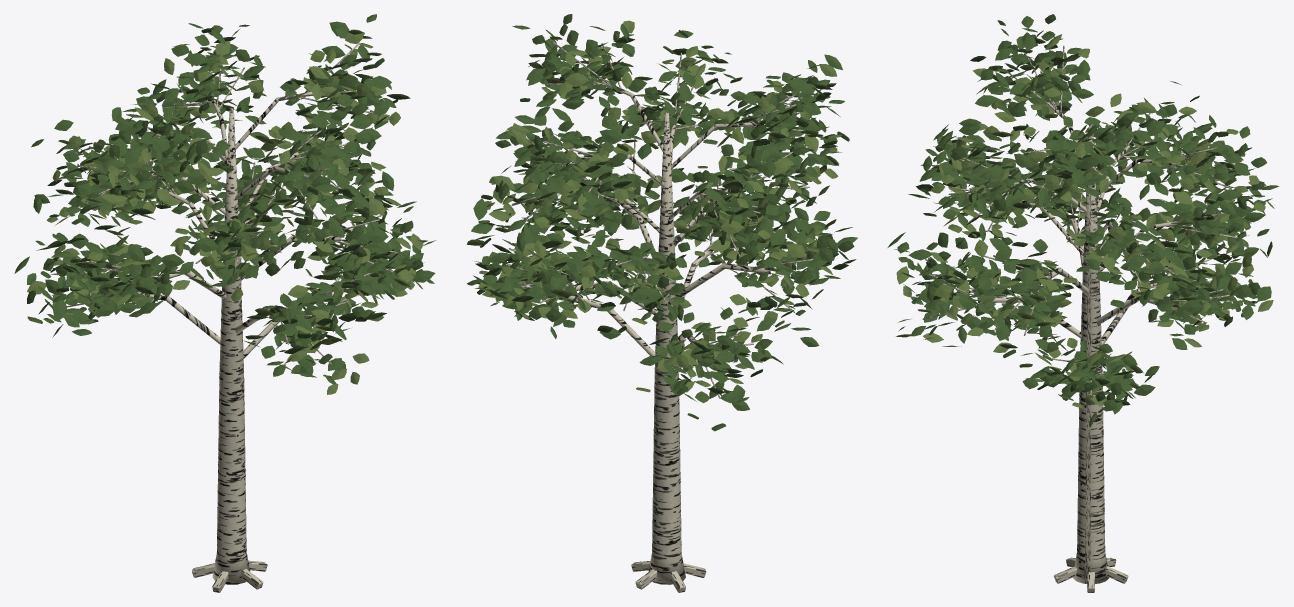
The model's file is birch_b.glb.
3 views of the same model, side by side, from view 1: azimuth 30°, elevation 25°; view 2: azimuth 150°, elevation 25°; view 3: azimuth 270°, elevation 25° (orthographic). The views are drawn at different scales.
Parts seen in each view (by area): view 1: Tree.001; view 2: Tree.001; view 3: Tree.001.
Part boxes in pixels (box(x1,y1,x2,y2)): Tree.001: box(14, 14, 436, 592); Tree.001: box(466, 14, 857, 592); Tree.001: box(887, 14, 1279, 592).
Bounding box in the file's own units: 4.73 × 6.66 × 4.62.
Materials: 3 (3 with a texture image).
